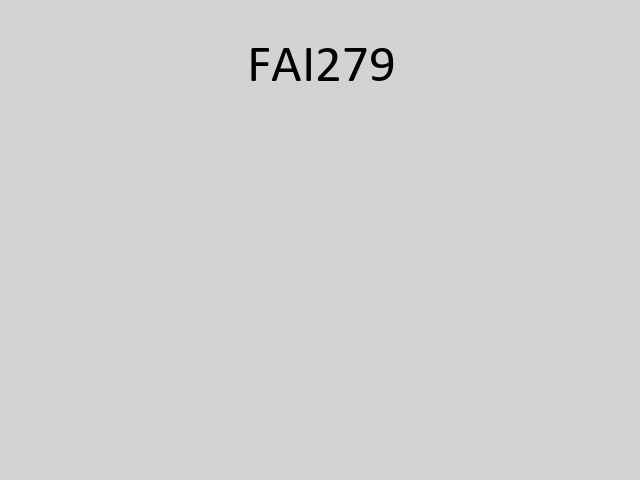OCR_AREA: (243, 44, 400, 85)
